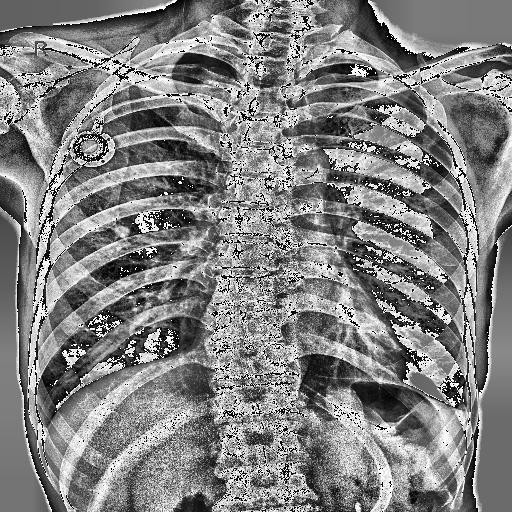0- Aortic enlargement: (260, 140, 332, 192)
2- Calcification: (302, 158, 322, 180)
7- Lung Opacity: (48, 51, 230, 279)
8- Nodule-Mass: (112, 226, 132, 238)
